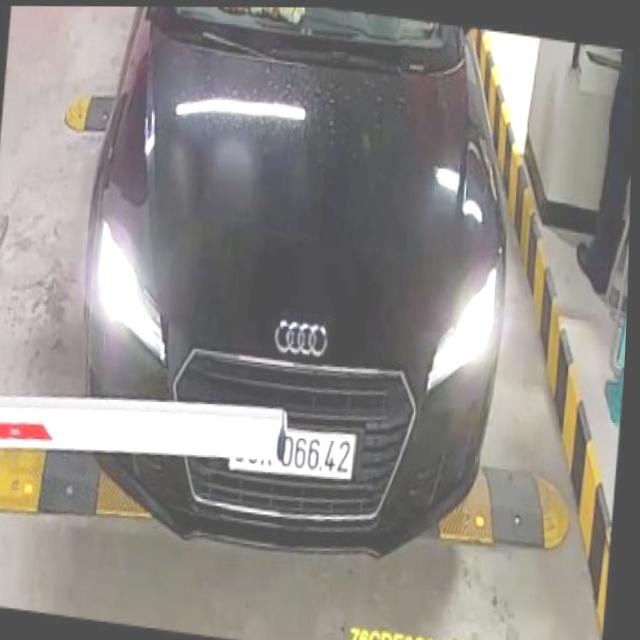car: (64, 2, 524, 572)
plate: (227, 416, 358, 484)
